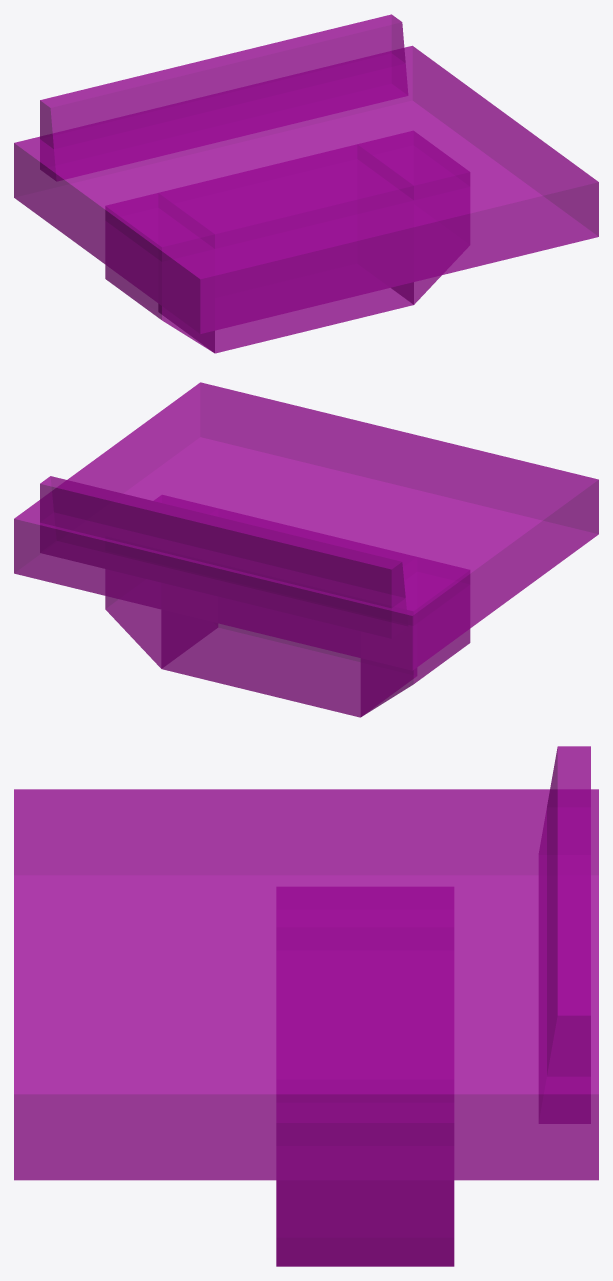
The model's file is SM_Prop_Table_01_Collision.fbx.
3 renders of one model, top to bottom at view 1: azimuth 30°, elevation 25°; view 2: azimuth 150°, elevation 25°; view 3: azimuth 270°, elevation 25°, orthographic. The views are drawn at different scales.
Visible parts, largest first — view 1: SM_Prop_Table_01_Collision; view 2: SM_Prop_Table_01_Collision; view 3: SM_Prop_Table_01_Collision.
Boxes of the visible parts, x1,y1,x2,y2 form: SM_Prop_Table_01_Collision: (14,14,598,353); SM_Prop_Table_01_Collision: (14,382,598,717); SM_Prop_Table_01_Collision: (14,746,598,1266).
Size of the model in its own units: 150 by 71.16 by 121.
